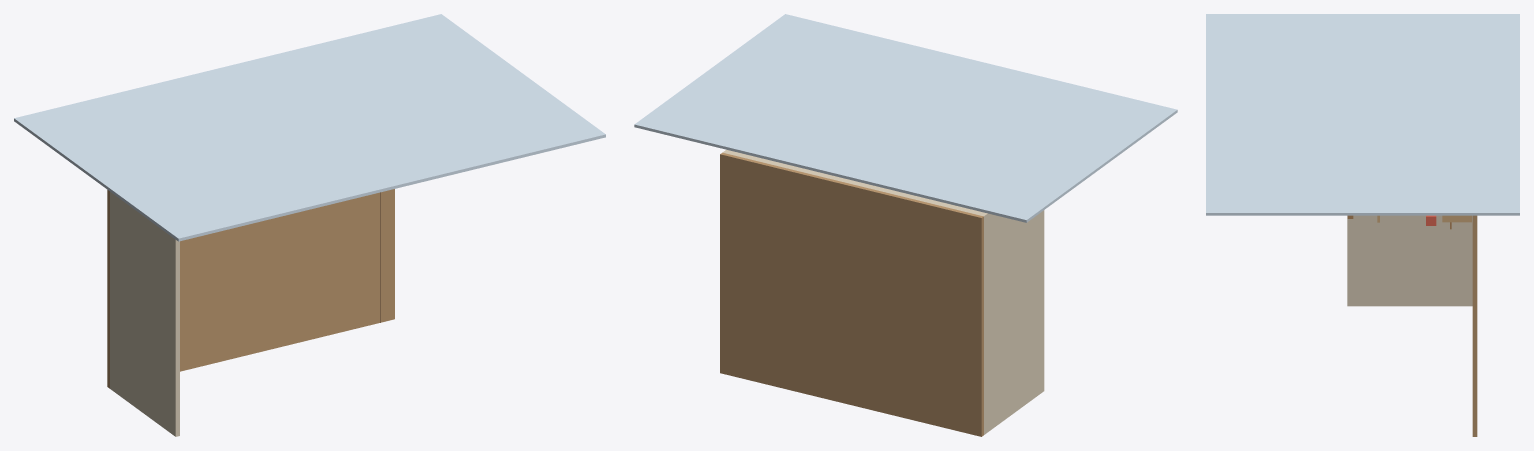
The model's file is kids_playroom_environment.glb.
3 renders of one model, left to right at view 1: azimuth 30°, elevation 25°; view 2: azimuth 150°, elevation 25°; view 3: azimuth 270°, elevation 25°, orthographic. The views are drawn at different scales.
Parts seen in each view (by area): view 1: Backdrop, Floor, LeftWall; view 2: Backdrop, Floor, LeftWall, BackWall; view 3: Backdrop, LeftWall, Floor.
Boxes of the visible parts, box(x1,y1,x2,y2) form: Backdrop: box(14, 14, 605, 241); Floor: box(107, 189, 394, 388); LeftWall: box(110, 192, 179, 436); Backdrop: box(634, 14, 1177, 222); Floor: box(720, 152, 983, 436); LeftWall: box(980, 210, 1044, 434); BackWall: box(723, 149, 991, 219); Backdrop: box(1206, 14, 1519, 215); LeftWall: box(1347, 215, 1472, 306); Floor: box(1472, 215, 1477, 436).
Bounding box in the file's own units: 30 × 18.1 × 20.
